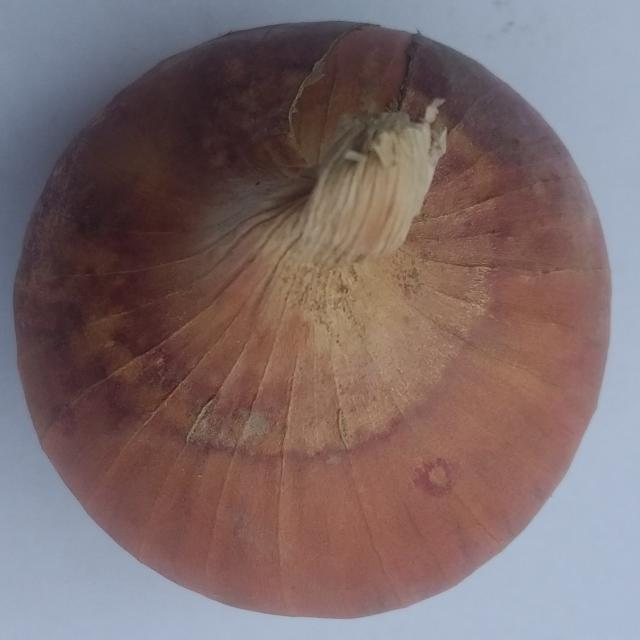onion: (11, 18, 614, 620)
